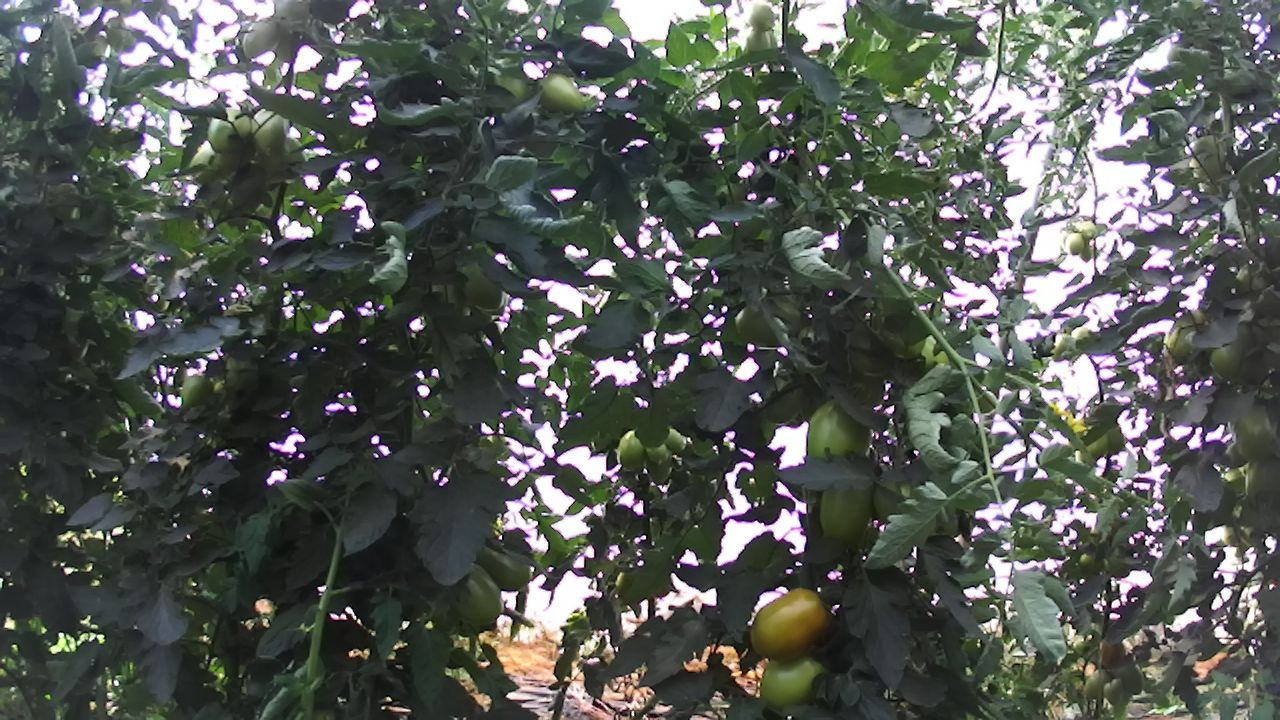tomato: (743, 584, 836, 669), (814, 469, 884, 552), (749, 644, 834, 712), (444, 554, 507, 630), (533, 69, 589, 116), (238, 15, 285, 62), (616, 426, 648, 472), (1061, 230, 1086, 259)
